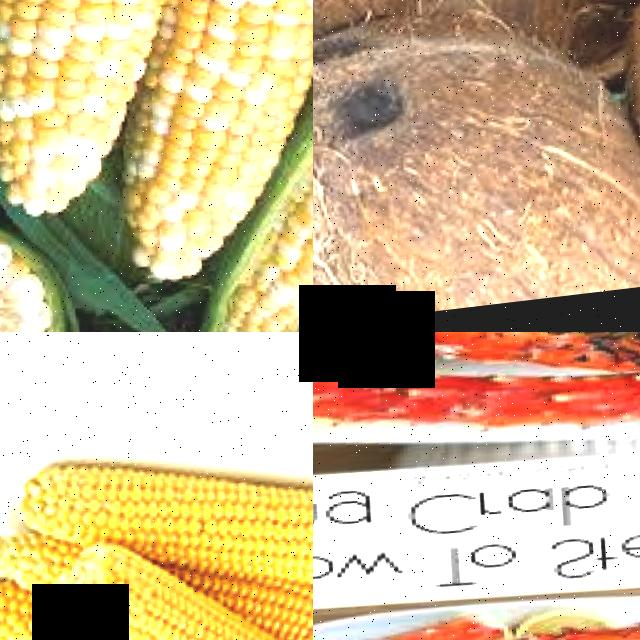coconut: (313, 0, 640, 332)
corn: (100, 36, 303, 290), (0, 0, 169, 223), (11, 455, 204, 575), (203, 122, 313, 332), (190, 469, 313, 620), (49, 542, 227, 640), (160, 0, 313, 62), (225, 574, 313, 640), (0, 576, 68, 640)
crab: (313, 332, 640, 501), (313, 607, 488, 640)
